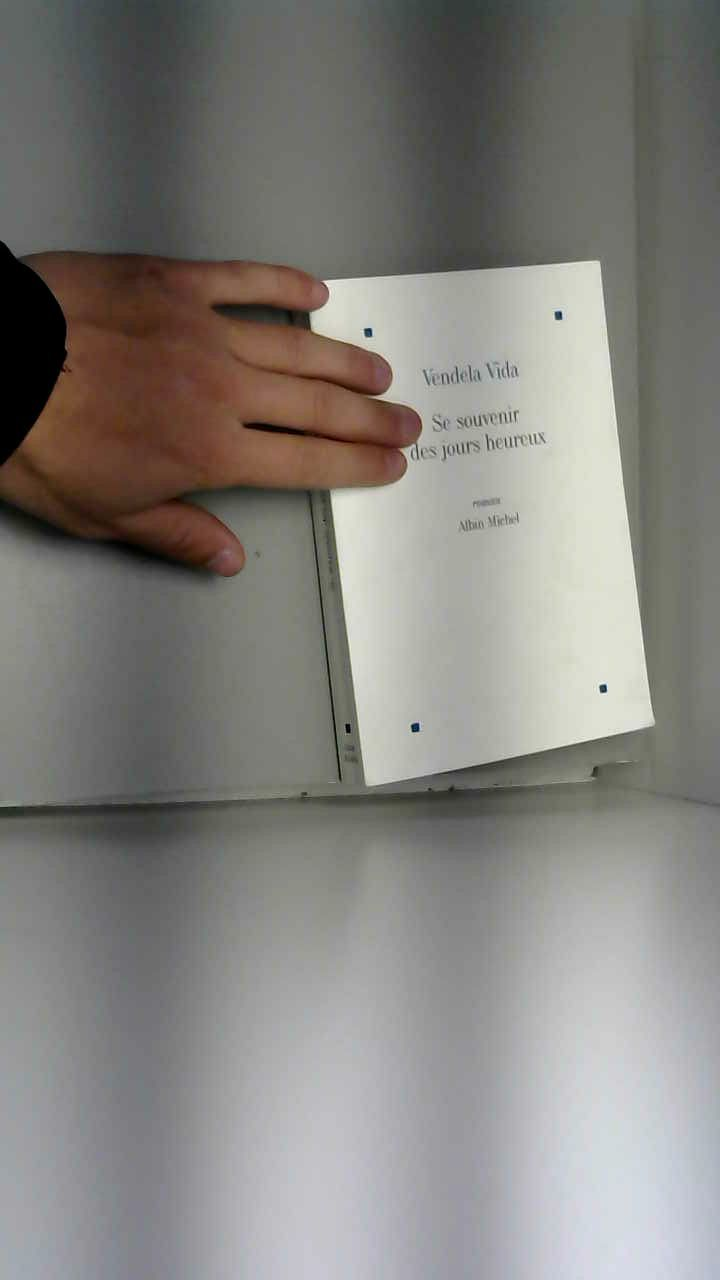book: (260, 213, 699, 836)
